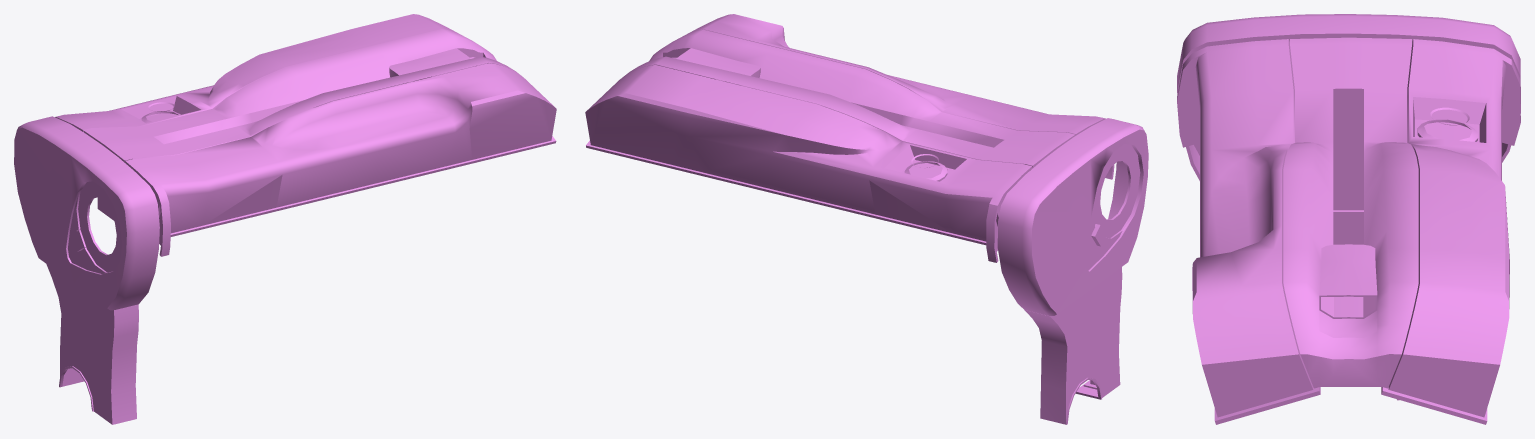
The picture shows the model from 3 angles, left to right: view 1: azimuth 30°, elevation 25°; view 2: azimuth 150°, elevation 25°; view 3: azimuth 270°, elevation 25°; orthographic projection. The views are drawn at different scales.
Visible parts, largest first — view 1: rb26_stock_reference.001_rb26_stock_reference.001_rb26_stoc.008; view 2: rb26_stock_reference.001_rb26_stock_reference.001_rb26_stoc.008; view 3: rb26_stock_reference.001_rb26_stock_reference.001_rb26_stoc.008.
Part boxes in pixels (x1,y1,x2,y2): rb26_stock_reference.001_rb26_stock_reference.001_rb26_stoc.008: (14, 14, 556, 424); rb26_stock_reference.001_rb26_stock_reference.001_rb26_stoc.008: (585, 14, 1148, 424); rb26_stock_reference.001_rb26_stock_reference.001_rb26_stoc.008: (1177, 14, 1520, 424).
Size of the model in its own units: 40.98 by 22.85 by 18.69.
